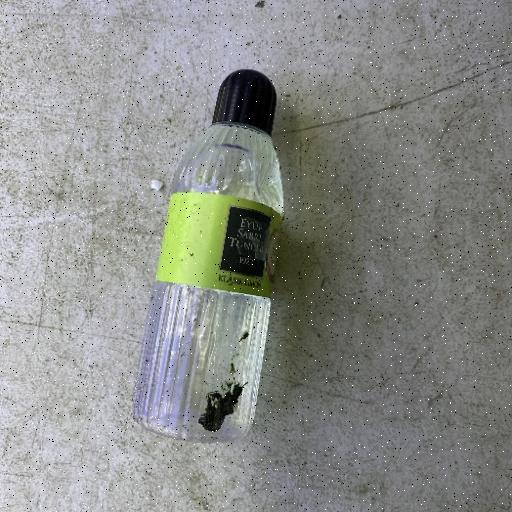Plastic: (129, 66, 287, 444)
